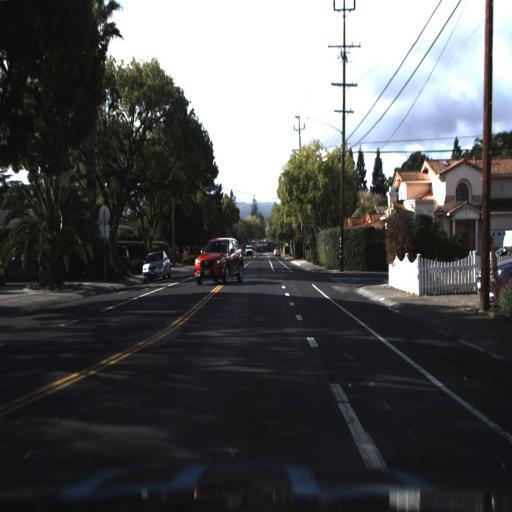car: (190, 234, 246, 288), (139, 246, 172, 286)
